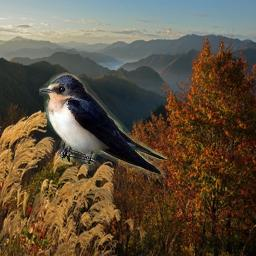Swallow: (39, 72, 167, 179)
